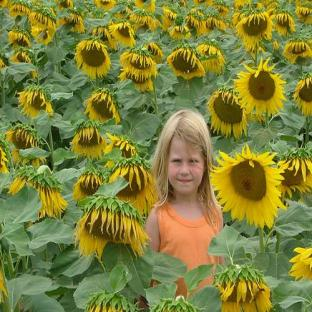sunflower: (211, 145, 286, 253)
